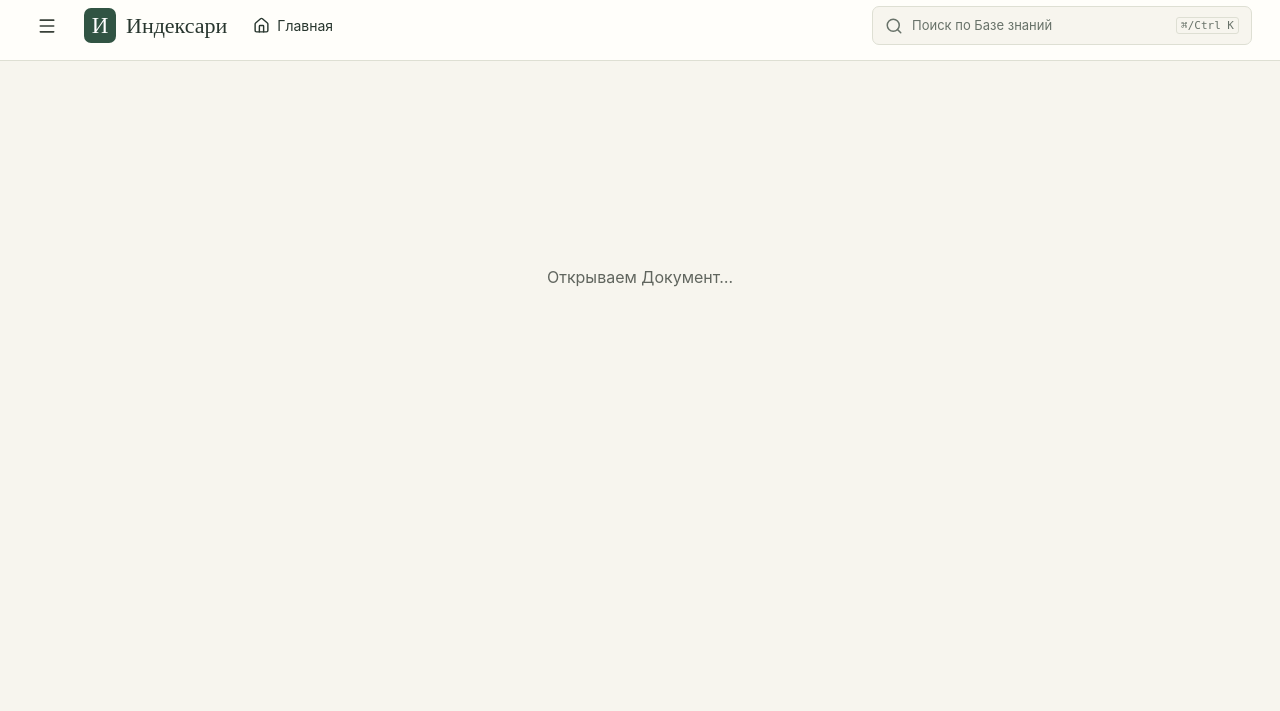
Test: Atlas › keeps search criteria after closing and reopening from the toolbar
Click the button "Поиск по Базе знаний ⌘/Ctrl K" at (982, 25), box [872,6,1252,45]
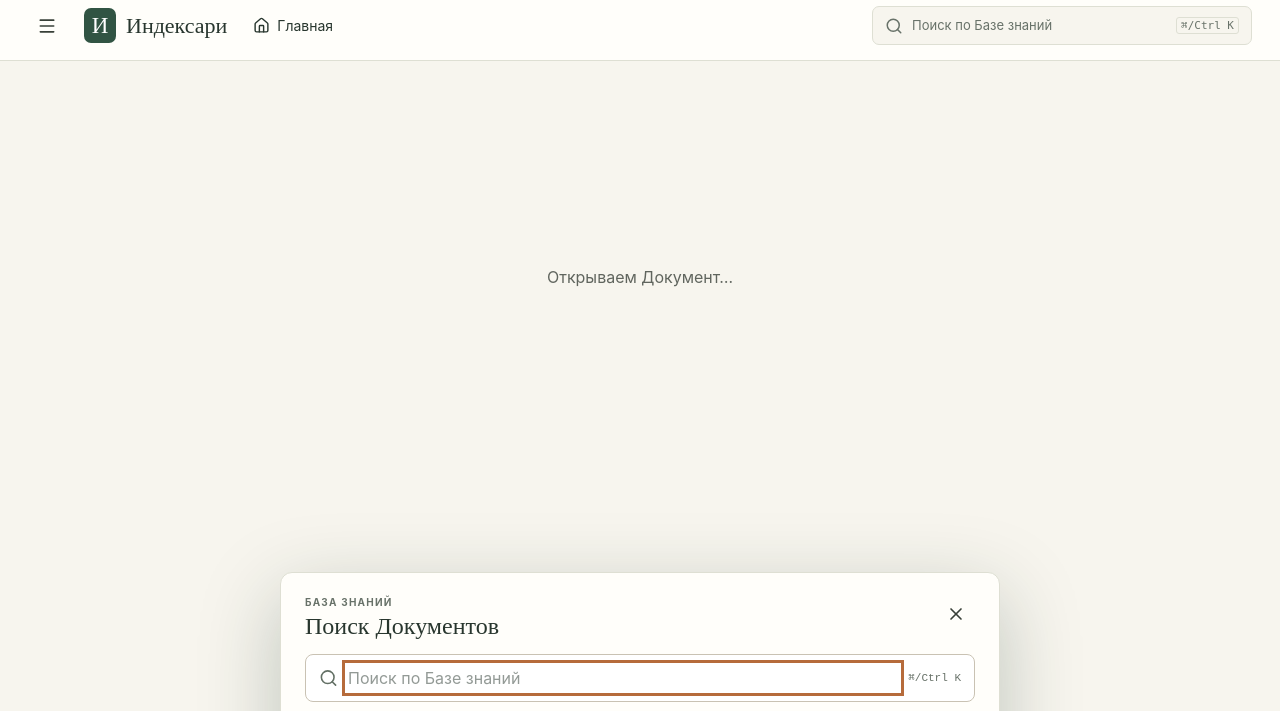
Type "квитанция" into the search field at (623, 678), box [348,666,898,690]
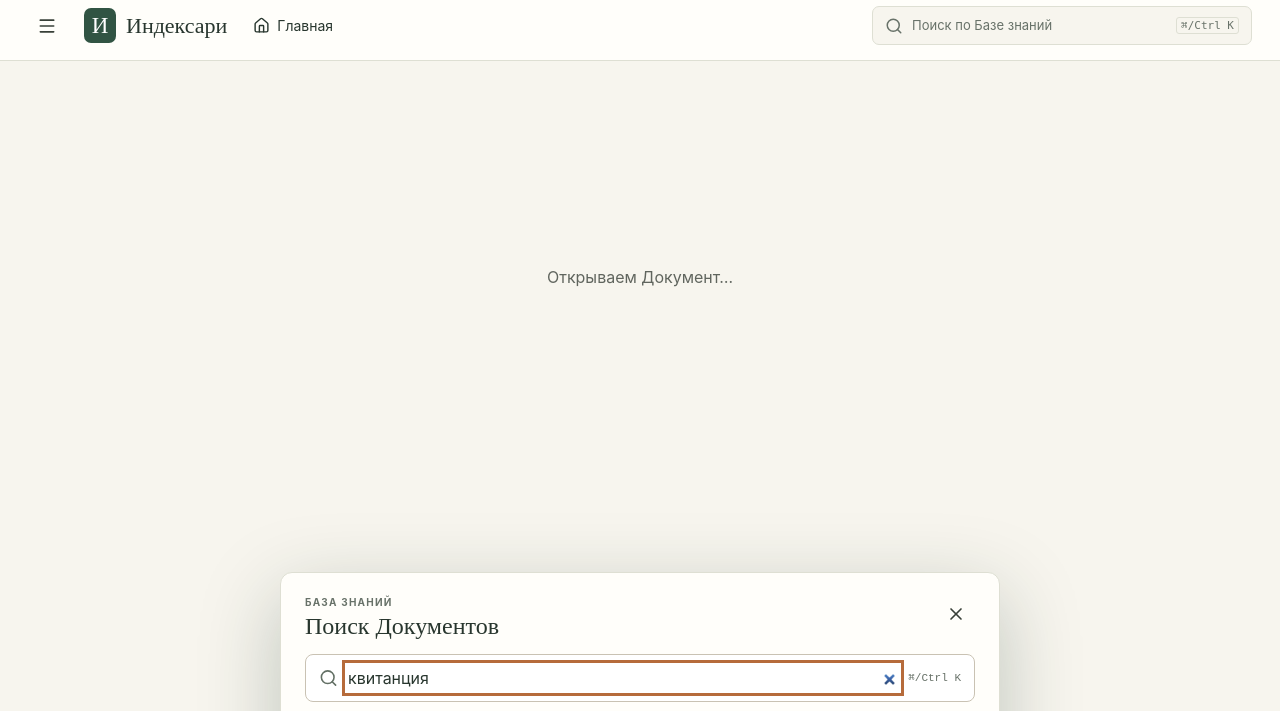
Press Escape
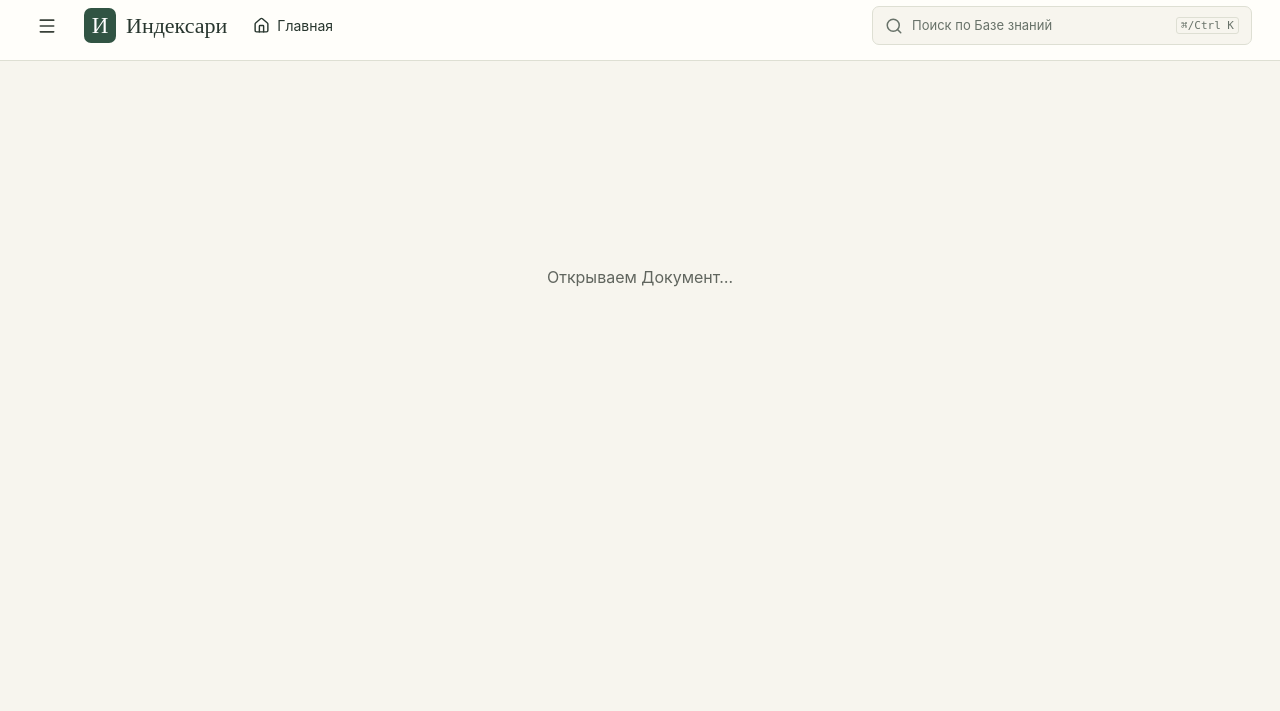
Click the button "Поиск по Базе знаний ⌘/Ctrl K" at (982, 25), box [872,6,1252,45]
(page scrolled)
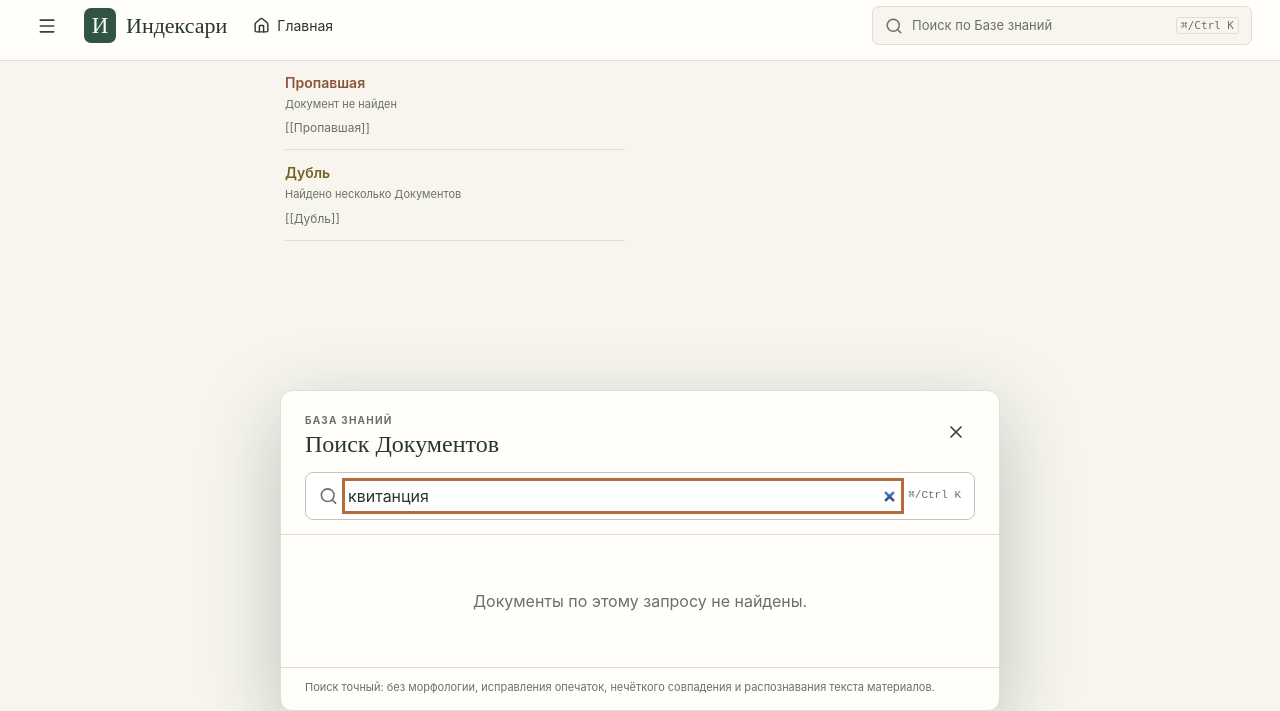
Now the search field holds "квитанция", box [348,484,898,508]
